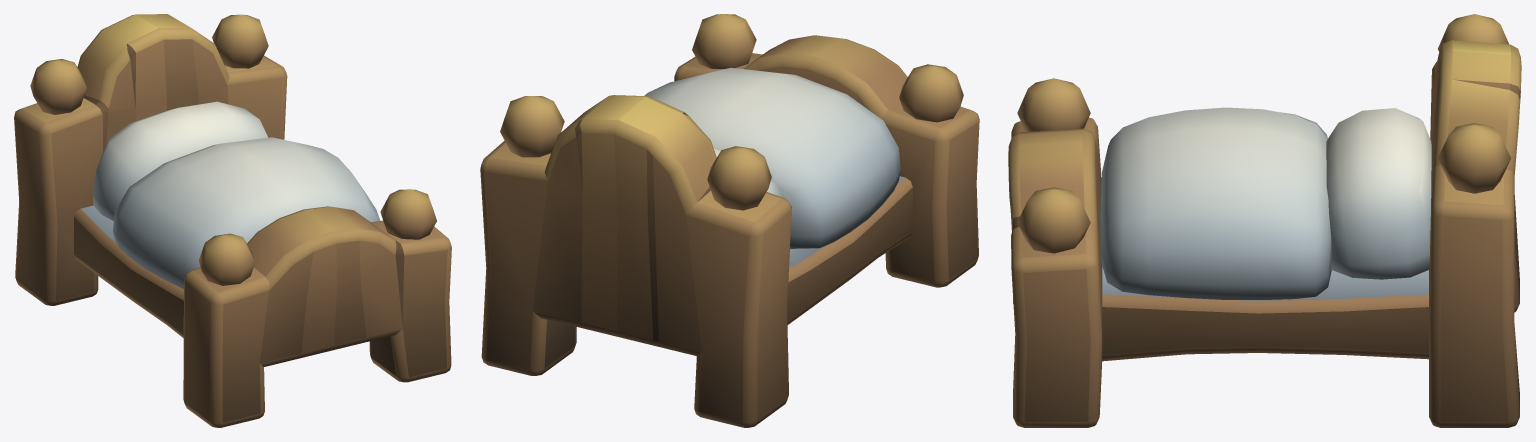
File: tavern_bed.fbx
3 renders of one model, left to right at view 1: azimuth 30°, elevation 25°; view 2: azimuth 150°, elevation 25°; view 3: azimuth 270°, elevation 25°, orthographic. The views are drawn at different scales.
Parts seen in each view (by area): view 1: tavern_bed_LOD0; view 2: tavern_bed_LOD0; view 3: tavern_bed_LOD0.
Boxes of the visible parts, bbox=[...] form: tavern_bed_LOD0: bbox=[14, 14, 451, 427]; tavern_bed_LOD0: bbox=[480, 14, 979, 427]; tavern_bed_LOD0: bbox=[1008, 14, 1521, 427].
Size of what is drawn, in the model's own units: 124 by 118 by 177.
